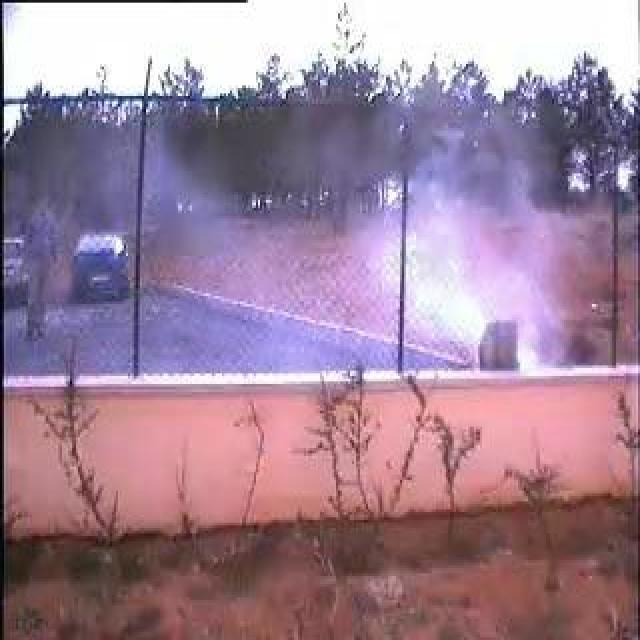Smoke: (369, 133, 561, 371)
